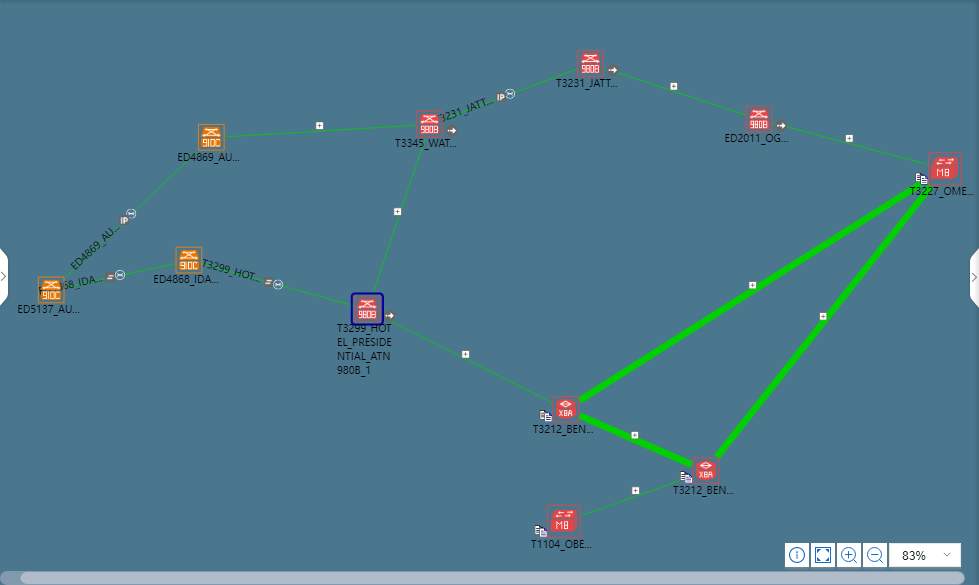ATN_Orange: (174, 247, 203, 276), (199, 124, 222, 153), (40, 277, 63, 306)
ATN_Red: (743, 106, 772, 135), (578, 51, 601, 80), (358, 296, 381, 325), (419, 112, 441, 141)
Link_Green: (578, 179, 932, 401), (713, 185, 929, 456), (64, 149, 196, 273), (389, 320, 549, 401), (370, 136, 430, 289), (791, 124, 932, 172), (578, 412, 690, 471), (444, 69, 569, 120), (205, 259, 349, 303), (615, 69, 748, 114), (64, 259, 179, 294), (584, 479, 675, 520), (223, 124, 384, 141)
Router_Red: (927, 155, 962, 184), (548, 510, 583, 539), (554, 400, 583, 423), (694, 461, 717, 482)
Switch_Red: (548, 510, 583, 539)
